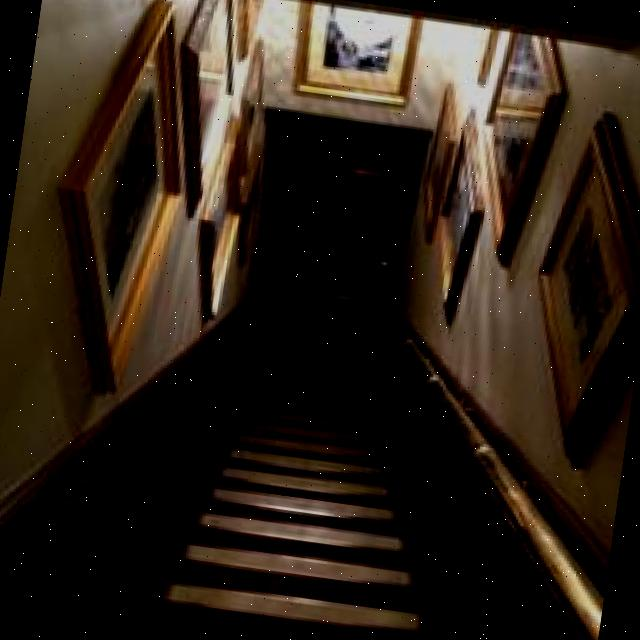stairs: (0, 237, 635, 640)
